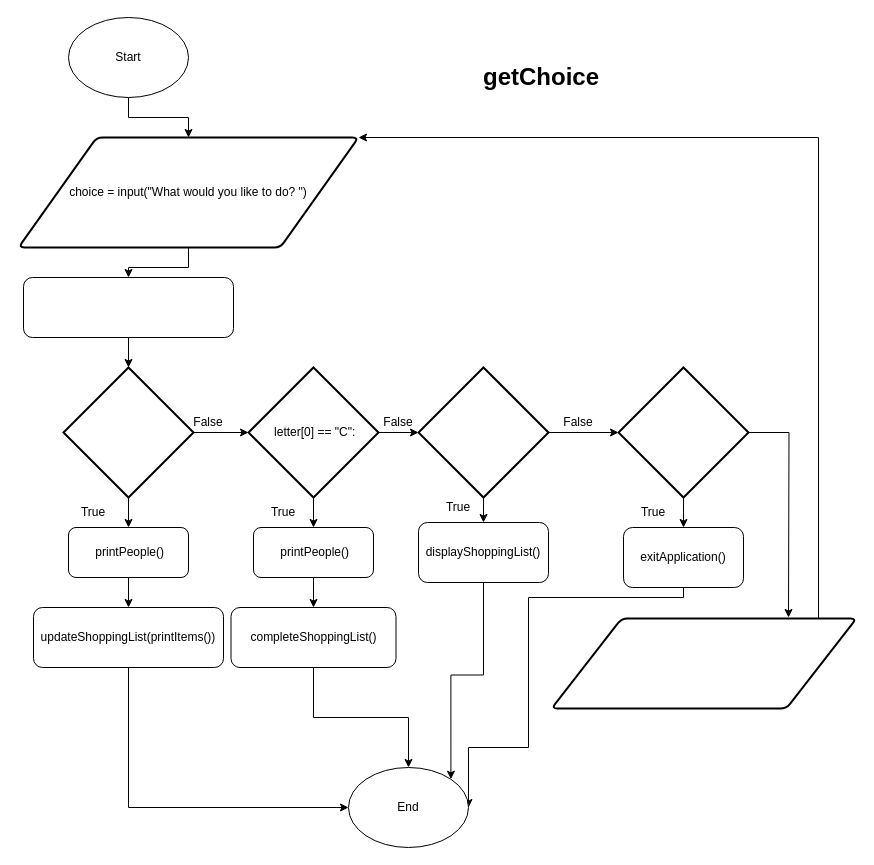
This 874x865 diagram has some shape labels left out. The shapes that lost their labels are listed below. From the top down, each one's centre as x and y in pixels, then its label:
[128,307]: letter = choice.split (" ")
[128,432]: if letter[0] == "U":
[483,432]: letter[0] == "D":
[683,432]: letter[0] == "E":
[703,663]: print("Invalid Selection, please try again")
